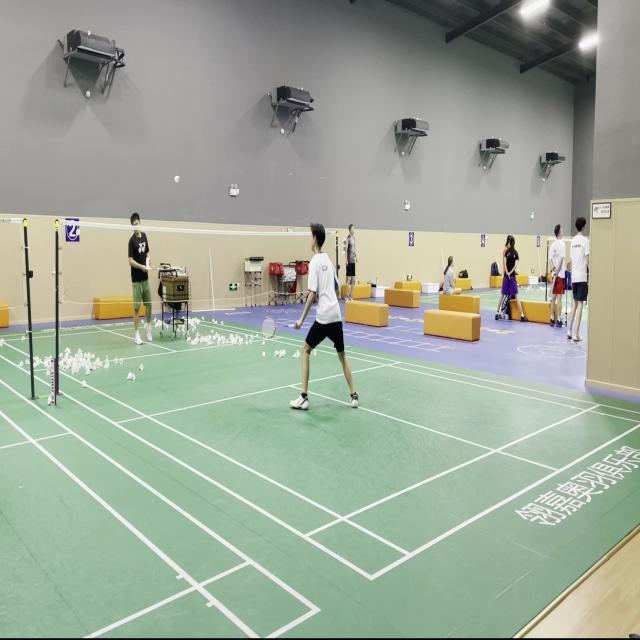shuttlecock: (174, 174, 180, 183)
